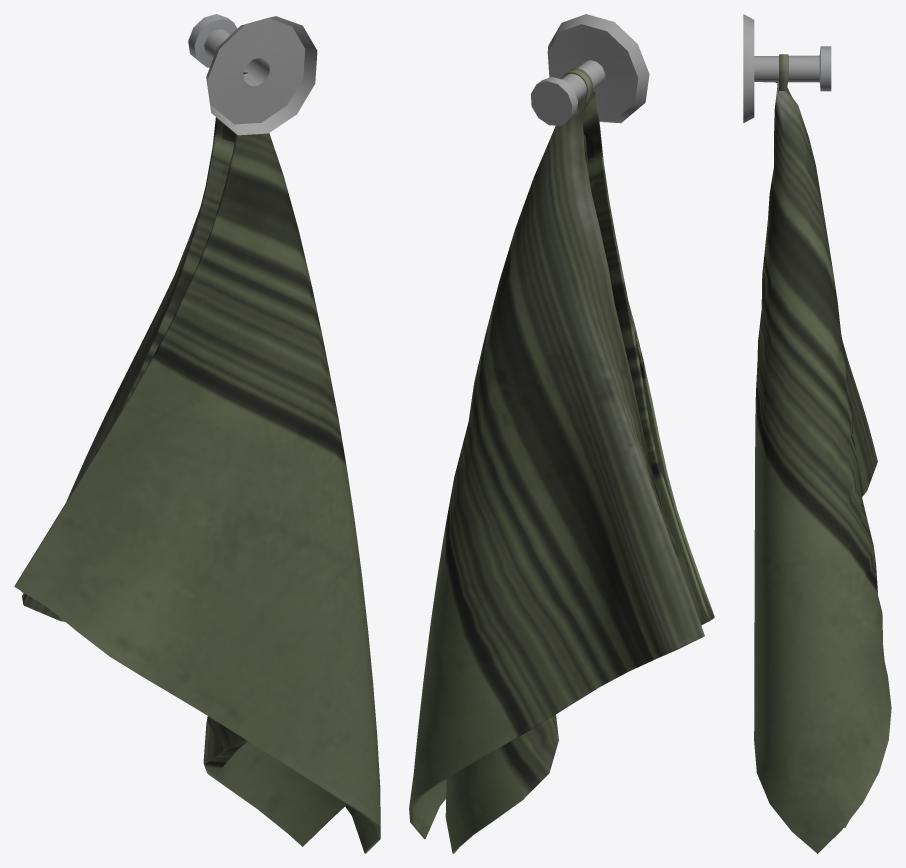
File: Prop_Towel.fbx
The picture shows the model from 3 angles, left to right: view 1: azimuth 30°, elevation 25°; view 2: azimuth 150°, elevation 25°; view 3: azimuth 270°, elevation 25°; orthographic projection. The views are drawn at different scales.
Parts seen in each view (by area): view 1: Prop_Towel; view 2: Prop_Towel; view 3: Prop_Towel.
Part boxes in pixels (x1,y1,x2,y2): Prop_Towel: (14,14,380,853); Prop_Towel: (409,14,714,853); Prop_Towel: (743,14,891,853).
Size of the model in its own units: 9.91 by 25.27 by 4.39.
